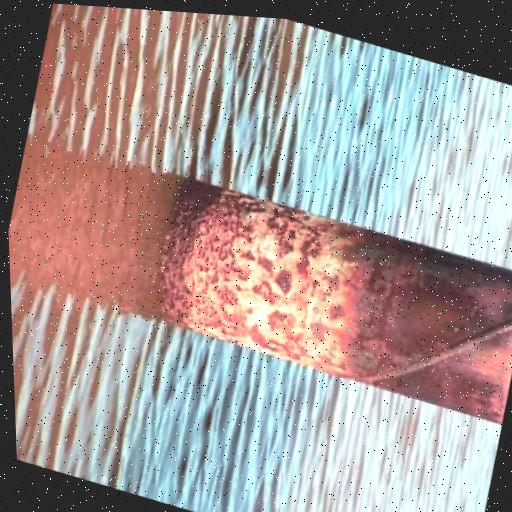corrosion: (146, 172, 512, 424)
